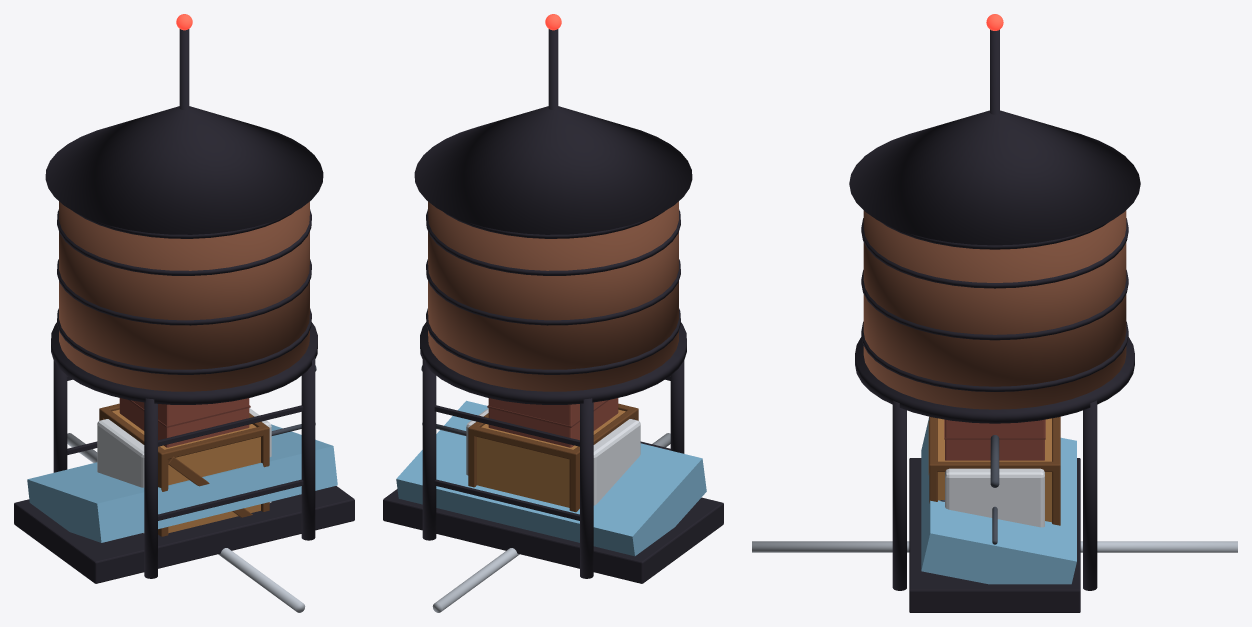
File: props.glb
3 views of the same model, side by side, from view 1: azimuth 30°, elevation 25°; view 2: azimuth 150°, elevation 25°; view 3: azimuth 270°, elevation 25° (orthographic). The views are drawn at different scales.
Visible parts, largest first — view 1: tank, skylight, crate, chimney, ac_unit, bar, antenna; view 2: tank, skylight, crate, chimney, ac_unit, bar, antenna; view 3: tank, skylight, ac_unit, crate, chimney, bar, antenna, rail.
Boxes of the visible parts, box(x1,y1,x2,y2) form: tank: box(45, 106, 323, 578); skylight: box(14, 424, 354, 583); crate: box(99, 403, 269, 536); chimney: box(119, 398, 250, 447); ac_unit: box(97, 408, 271, 533); bar: box(67, 433, 305, 612); antenna: box(176, 14, 192, 109); tank: box(414, 106, 692, 578); skylight: box(383, 400, 723, 583); crate: box(468, 403, 638, 512); chimney: box(487, 398, 618, 447); ac_unit: box(466, 408, 640, 505); bar: box(432, 433, 670, 612); antenna: box(545, 14, 561, 109); tank: box(849, 110, 1140, 590); skylight: box(909, 417, 1080, 612); ac_unit: box(940, 468, 1044, 527); crate: box(928, 416, 1060, 525); chimney: box(944, 419, 1045, 460); bar: box(752, 541, 1237, 552); antenna: box(986, 14, 1003, 114); rail: box(990, 435, 999, 544).
Size of the model in its own units: 2.2 by 4.15 by 3.4.
